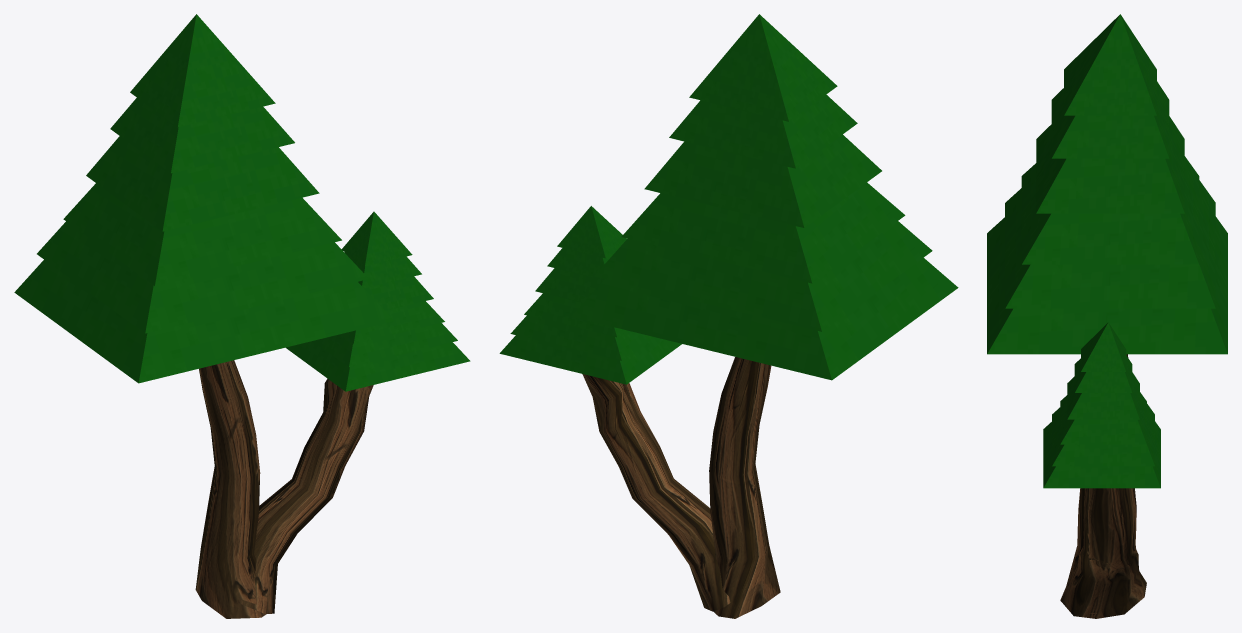
The model's file is tree4.FBX.
3 views of the same model, side by side, from view 1: azimuth 30°, elevation 25°; view 2: azimuth 150°, elevation 25°; view 3: azimuth 270°, elevation 25° (orthographic). The views are drawn at different scales.
Visible parts, largest first — view 1: Cylinder001; view 2: Cylinder001; view 3: Cylinder001.
Boxes of the visible parts, x1,y1,x2,y2 form: Cylinder001: [14, 14, 470, 618]; Cylinder001: [499, 14, 958, 618]; Cylinder001: [987, 14, 1227, 618].
Size of the model in its own units: 32.19 by 50.85 by 19.19.
